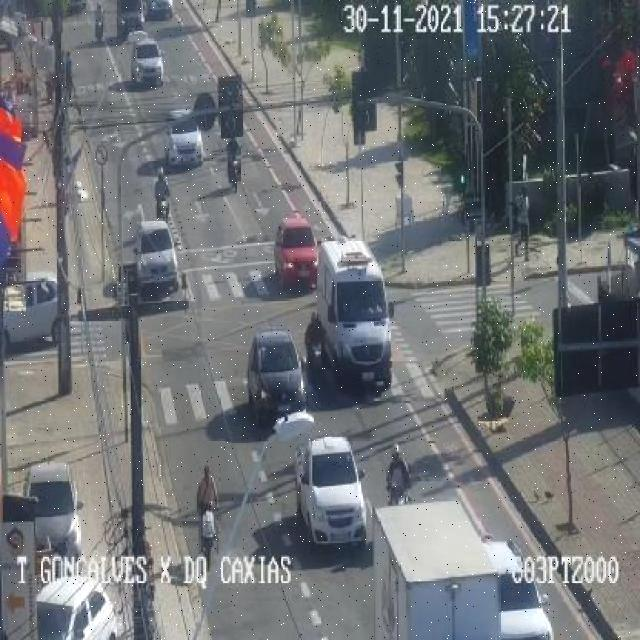Car: (287, 431, 372, 554), (246, 328, 308, 426), (21, 461, 83, 558), (487, 554, 552, 640), (36, 578, 120, 638), (2, 272, 61, 352), (132, 220, 179, 298), (274, 212, 319, 290), (162, 110, 204, 172), (130, 36, 165, 87), (118, 0, 145, 33), (145, 0, 173, 21)
Cycle: (185, 460, 227, 552), (380, 438, 418, 509), (222, 130, 254, 193), (143, 171, 176, 219), (304, 314, 326, 370), (512, 190, 530, 247), (95, 6, 104, 40)
Truck: (374, 506, 496, 640)
Van: (314, 238, 394, 389)
